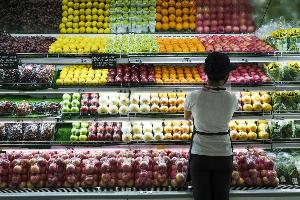apple: (0, 150, 183, 188), (110, 1, 156, 34), (236, 150, 272, 188), (97, 92, 151, 114), (204, 34, 268, 52), (108, 64, 156, 84), (105, 35, 156, 53), (121, 122, 163, 142), (229, 64, 267, 84), (87, 120, 122, 140), (80, 90, 99, 112), (61, 92, 79, 112), (71, 122, 87, 140)
grape: (1, 1, 60, 33), (0, 62, 54, 86), (0, 35, 50, 53), (0, 94, 32, 116)
lemon: (61, 2, 109, 32), (50, 34, 106, 54), (58, 61, 108, 83)
orange: (157, 1, 195, 32), (156, 64, 200, 84), (158, 36, 202, 55), (230, 118, 268, 140), (151, 92, 183, 112), (242, 92, 272, 112), (165, 121, 191, 139)
